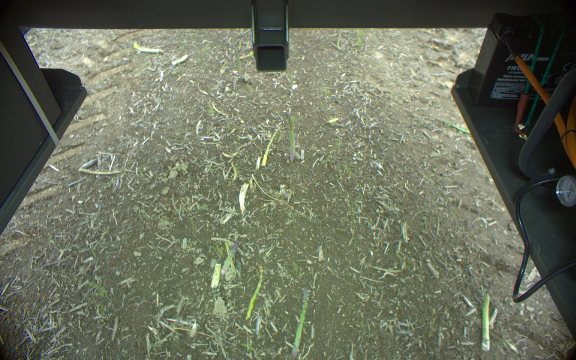aspa: (289, 287, 310, 357), (245, 267, 268, 321), (259, 125, 282, 167), (479, 292, 493, 351), (221, 243, 240, 278), (283, 110, 296, 161), (229, 44, 244, 81), (210, 262, 221, 288)
